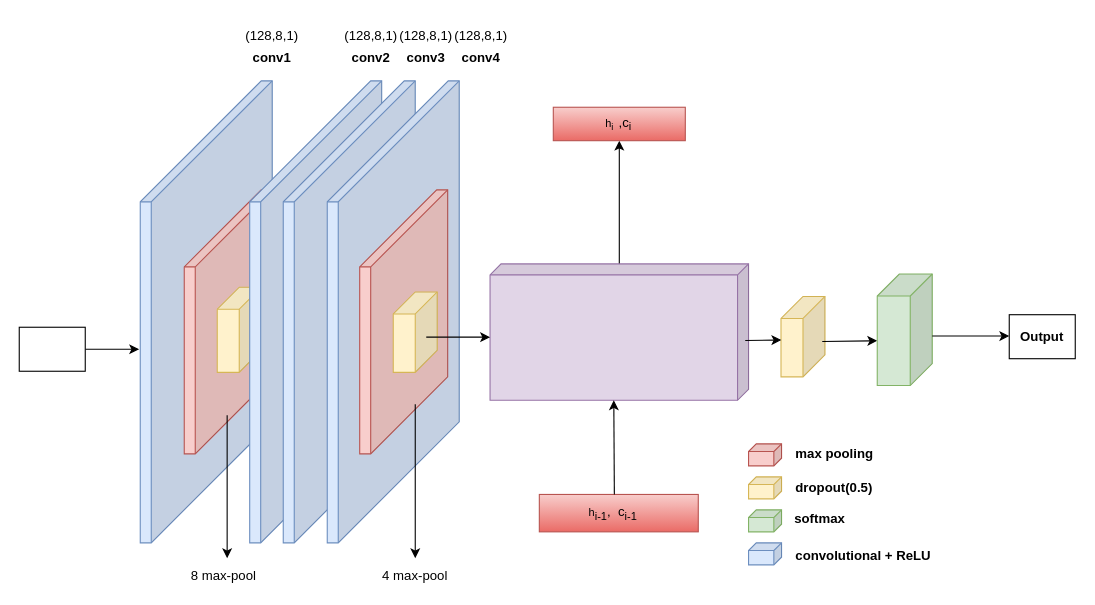
The diagram is 1095 pixels wide and 605 high, and some of its shapes have lost their labels. Each missing label, with the centre of its shape:
"Input" goes at [51,348].
"LSTM" goes at [619,331].
